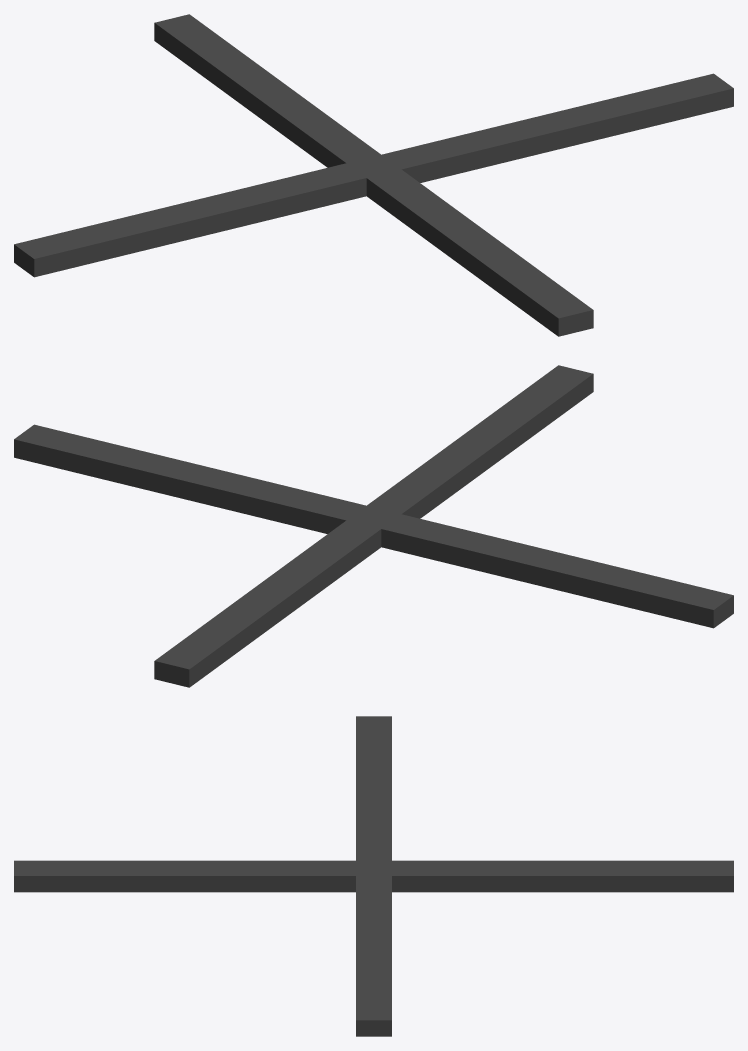
The model's file is wire_plus_turn.obj.
3 views of the same model, one above another, from view 1: azimuth 30°, elevation 25°; view 2: azimuth 150°, elevation 25°; view 3: azimuth 270°, elevation 25° (orthographic). The views are drawn at different scales.
Size of the model in its own units: 4 by 0.1 by 4.
1 material, 1 textured.
